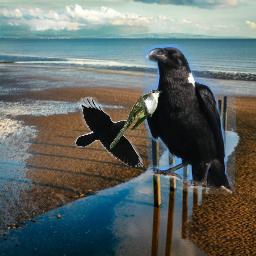Crow: (141, 44, 236, 194), (75, 96, 144, 167)
Cuckoo: (109, 89, 163, 150)
